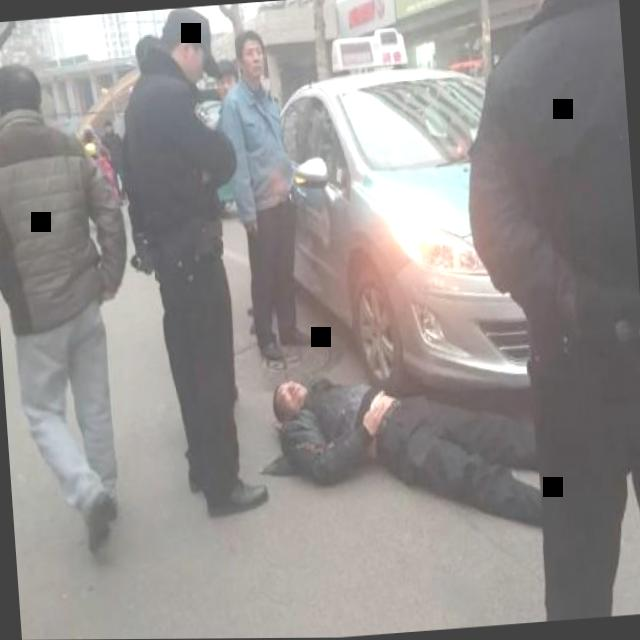Fall-Detected: (253, 336, 562, 564)
